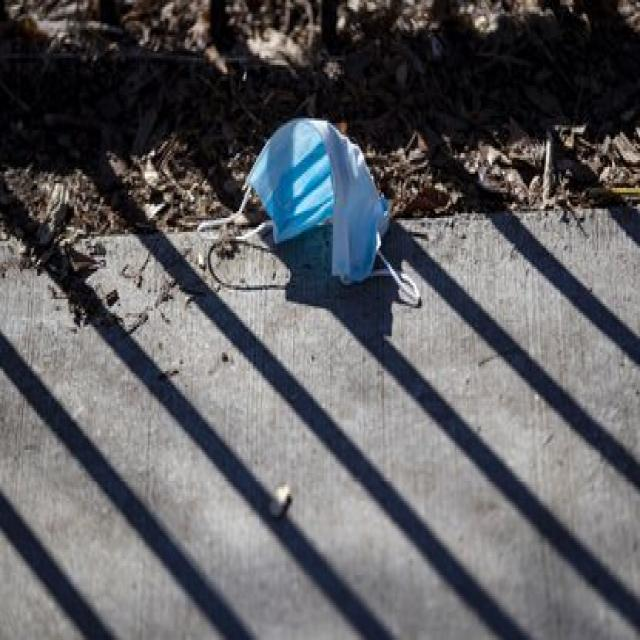non-organic waste: (205, 111, 412, 318)
